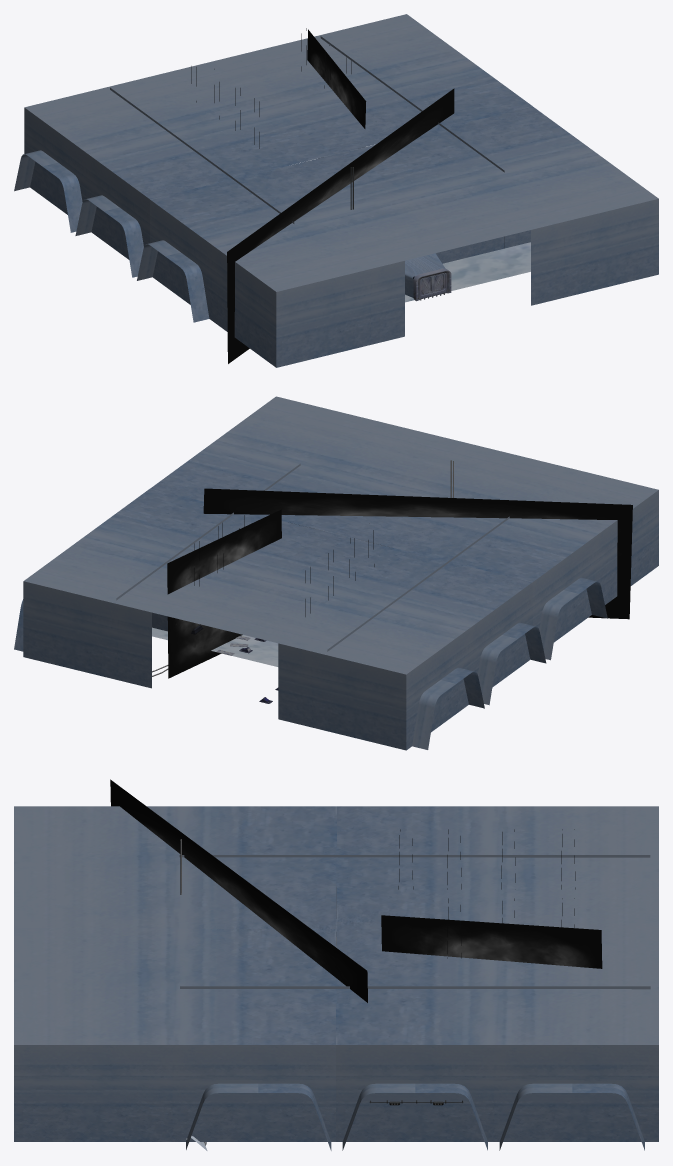
Rendered from env_hoth_hangar_02_pre.glb.
3 views of the same model, one above another, from view 1: azimuth 30°, elevation 25°; view 2: azimuth 150°, elevation 25°; view 3: azimuth 270°, elevation 25° (orthographic). The views are drawn at different scales.
Visible parts, largest first — view 1: hoth_hangar_01_walls_mesh (×2), hoth_ice_hangar_mesh (×3), fogplane_01_mesh 1, ground_plane_lrg_mesh, hoth_hangar_01_backwall_mesh, fogplane_01_mesh, blast_door_mesh; view 2: hoth_hangar_01_walls_mesh (×2), fogplane_01_mesh 1, hoth_ice_hangar_mesh (×4), fogplane_01_mesh, ground_plane_lrg_mesh; view 3: hoth_hangar_01_walls_mesh (×2), fogplane_01_mesh, fogplane_01_mesh 1, hoth_ice_hangar_mesh (×3).
Part boxes in pixels (x1,y1,x2,y2): hoth_hangar_01_walls_mesh (×2): (24,14,658,367); hoth_ice_hangar_mesh (×3): (14,87,294,322); fogplane_01_mesh 1: (227,88,454,363); ground_plane_lrg_mesh: (405,242,530,302); hoth_hangar_01_backwall_mesh: (405,230,530,297); fogplane_01_mesh: (307,29,366,128); blast_door_mesh: (420,273,446,300); hoth_hangar_01_walls_mesh (×2): (23,396,658,750); fogplane_01_mesh 1: (203,488,632,619); hoth_ice_hangar_mesh (×4): (14,516,607,749); fogplane_01_mesh: (167,509,281,678); ground_plane_lrg_mesh: (152,627,278,666); hoth_hangar_01_walls_mesh (×2): (14,806,658,1141); fogplane_01_mesh: (381,915,602,968); fogplane_01_mesh 1: (110,779,367,1002); hoth_ice_hangar_mesh (×3): (180,986,650,1150).
Size of the model in its own units: 62.78 by 22.37 by 66.35.
18 materials, 18 textured.
